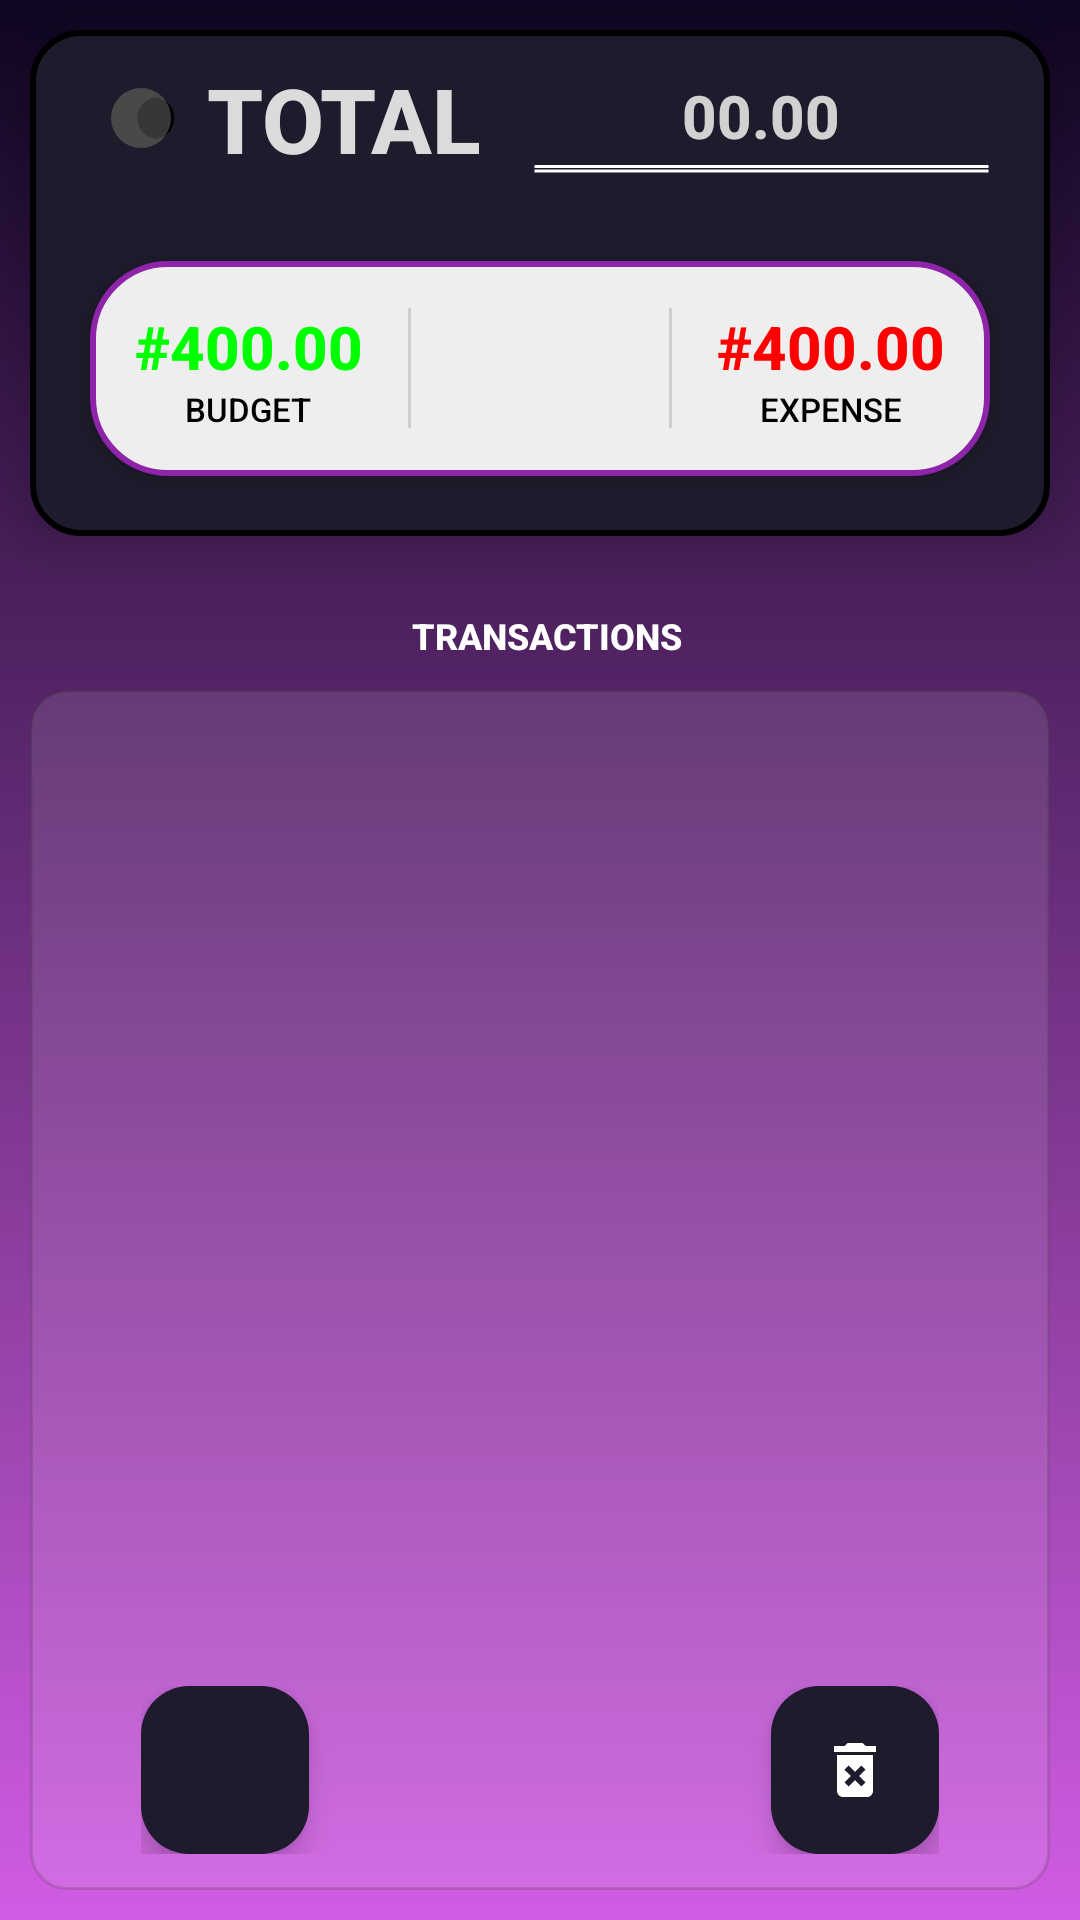

Named icons in this screenshot (1080px×1920px) and their bounding boxes, (x1, y1, x2, y2):
delete all transactions: (771, 1686, 939, 1854)
